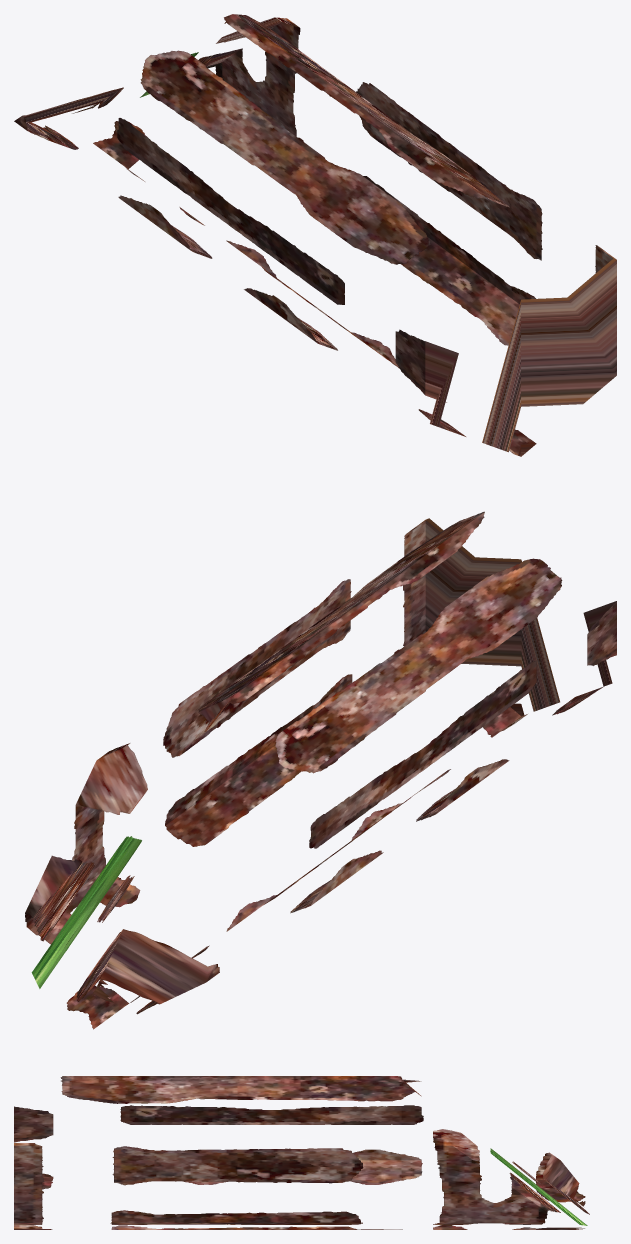
Rendered from GreenLiquid.fbx.
3 renders of one model, top to bottom at view 1: azimuth 30°, elevation 25°; view 2: azimuth 150°, elevation 25°; view 3: azimuth 270°, elevation 25°, orthographic. The views are drawn at different scales.
Parts seen in each view (by area): view 1: GreenLiquid; view 2: GreenLiquid; view 3: GreenLiquid.
Boxes of the visible parts, box(x1,y1,x2,y2) form: GreenLiquid: box(14, 14, 616, 456); GreenLiquid: box(25, 511, 616, 1029); GreenLiquid: box(14, 1076, 589, 1229).
Bounding box in the file's own units: 3.63 × 4.2 × 14.9.
